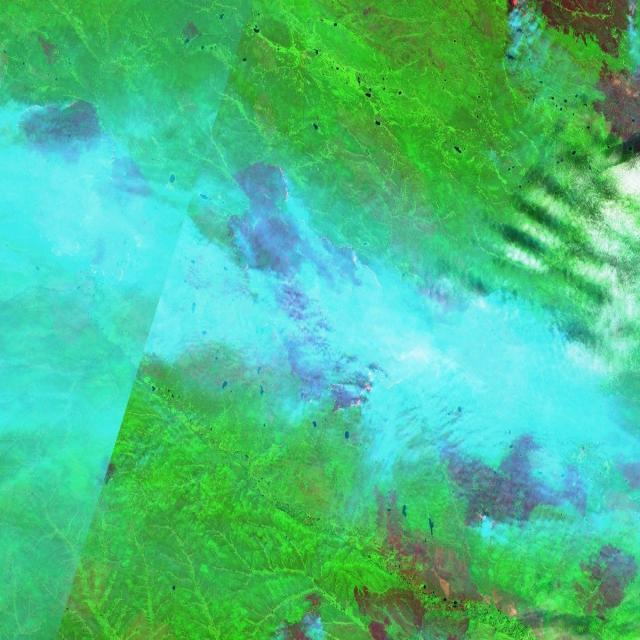fire: (210, 154, 395, 430), (440, 445, 528, 545)
